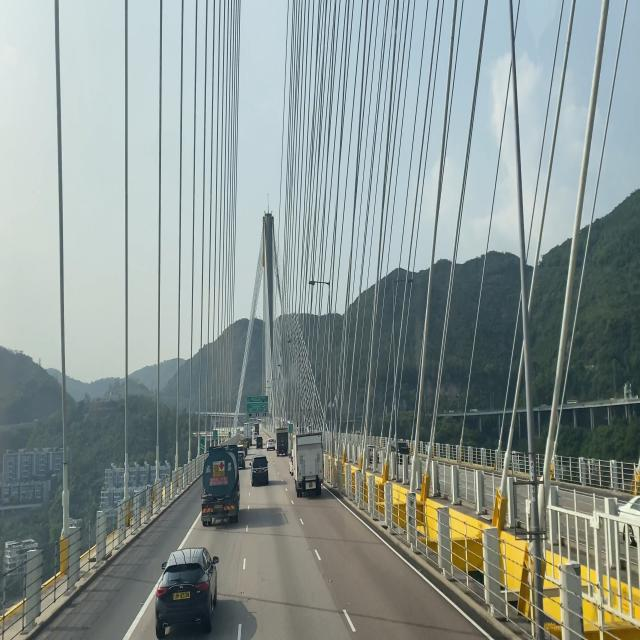Car: (156, 544, 222, 640), (201, 442, 241, 530), (291, 432, 328, 496), (248, 453, 272, 490), (276, 425, 292, 459)
